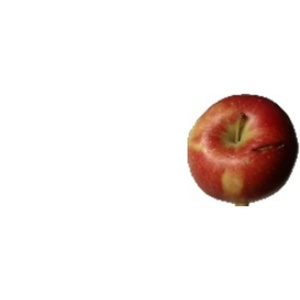maçã braeburn: (183, 92, 299, 207)
